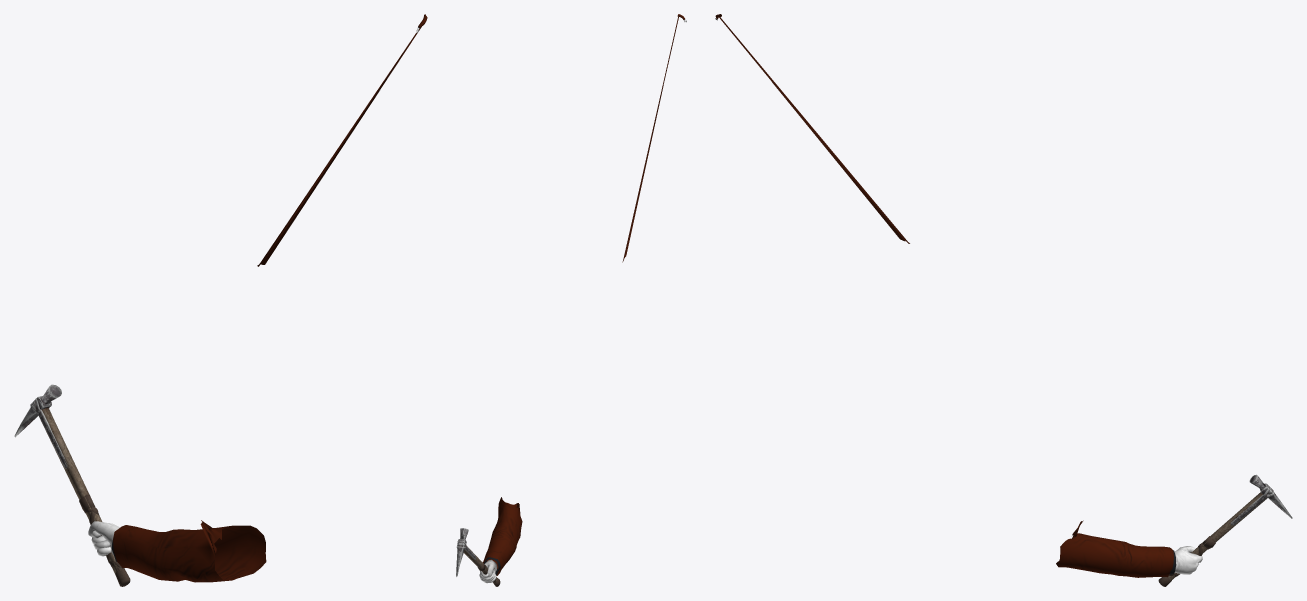
File: frame_15.obj
3 views of the same model, side by side, from view 1: azimuth 30°, elevation 25°; view 2: azimuth 150°, elevation 25°; view 3: azimuth 270°, elevation 25° (orthographic). The views are drawn at different scales.
Visible parts, largest first — view 1: PlayerModelMerged.001_PlayerModelMerged, Cube.028; view 2: PlayerModelMerged.001_PlayerModelMerged, Cube.028; view 3: PlayerModelMerged.001_PlayerModelMerged, Cube.028.
Part boxes in pixels (x1,y1,x2,y2): PlayerModelMerged.001_PlayerModelMerged: (88,14,427,582); Cube.028: (14,384,130,586); PlayerModelMerged.001_PlayerModelMerged: (479,14,686,583); Cube.028: (456,528,500,586); PlayerModelMerged.001_PlayerModelMerged: (715,14,1202,577); Cube.028: (1158,474,1292,586).
Bounding box in the file's own units: 0.4962 × 3.32 × 3.06.
